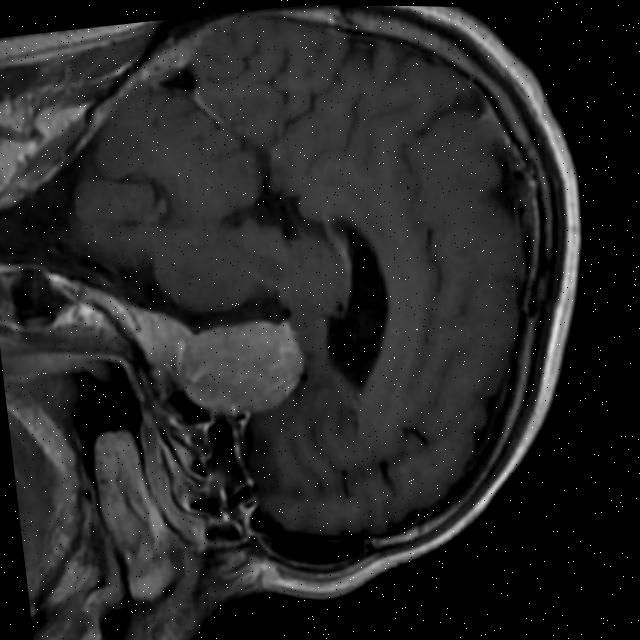Pituitary: (175, 314, 310, 422)
